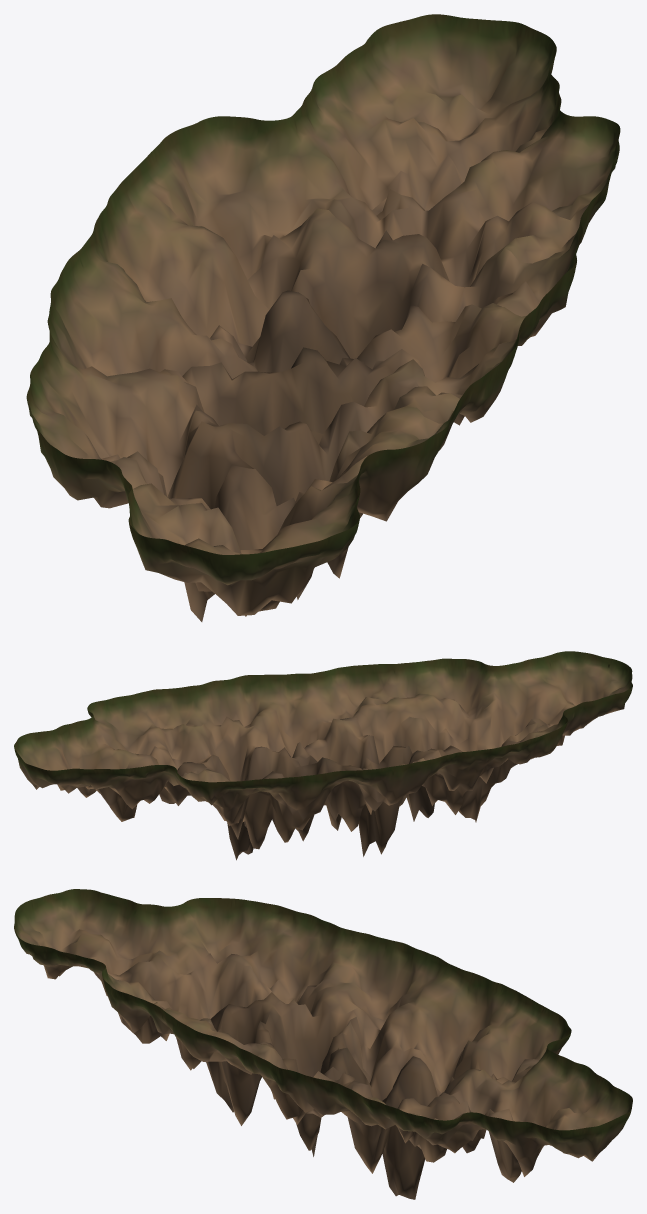
File: SM_H09_IslandRock.fbx
3 views of the same model, one above another, from view 1: azimuth 30°, elevation 25°; view 2: azimuth 150°, elevation 25°; view 3: azimuth 270°, elevation 25° (orthographic). The views are drawn at different scales.
Visible parts, largest first — view 1: SM_H09_IslandRock; view 2: SM_H09_IslandRock; view 3: SM_H09_IslandRock.
Part boxes in pixels (x1,y1,x2,y2): SM_H09_IslandRock: (26, 14, 620, 621); SM_H09_IslandRock: (14, 651, 632, 860); SM_H09_IslandRock: (14, 889, 632, 1199).
Size of the model in its own units: 292 by 95.58 by 316.
